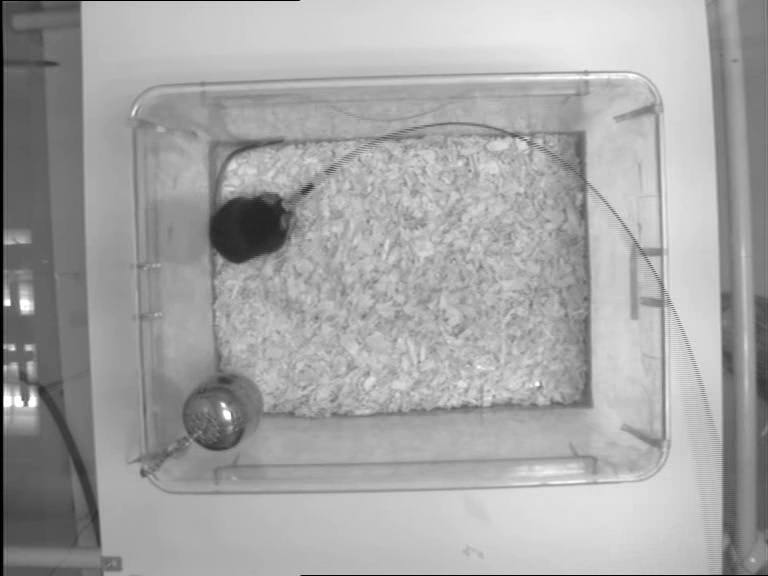mice: (206, 139, 302, 265)
